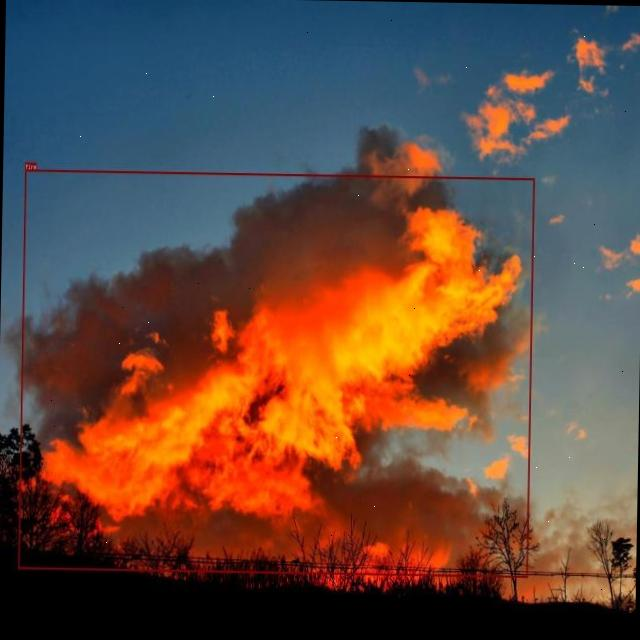fire: (18, 168, 534, 576)
